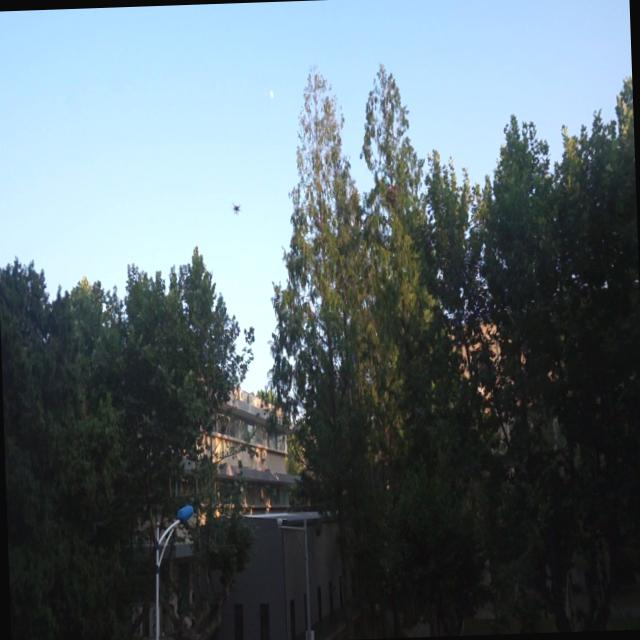drone: (229, 196, 242, 220)
